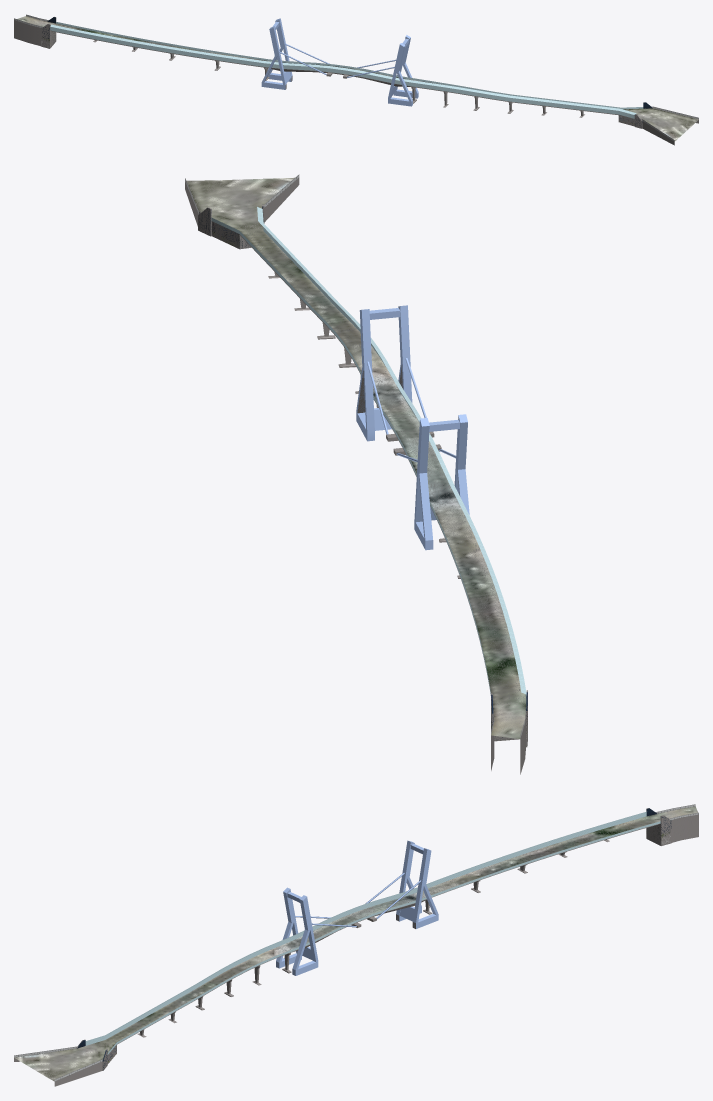
File: ponte_leca.gltf
The picture shows the model from 3 angles, top to bottom: view 1: azimuth 30°, elevation 25°; view 2: azimuth 150°, elevation 25°; view 3: azimuth 270°, elevation 25°; orthographic projection. The views are drawn at different scales.
Parts seen in each view (by area): view 1: SketchUp.051, SketchUp.055, SketchUp, SketchUp.006, SketchUp.038, SketchUp.011, SketchUp.018, SketchUp.003, SketchUp.009, SketchUp.019; view 2: SketchUp.038, SketchUp, SketchUp.004, SketchUp.051, SketchUp.009, SketchUp.019, SketchUp.055, SketchUp.001, SketchUp.011, SketchUp.018; view 3: SketchUp.038, SketchUp.051, SketchUp, SketchUp.055, SketchUp.004, SketchUp.019, SketchUp.006, SketchUp.009, SketchUp.002, SketchUp.018, SketchUp.011.
Boxes of the visible parts, x1=… form: SketchUp.051: x1=50, y1=24, x2=636, y2=118; SketchUp.055: x1=56, y1=22, x2=643, y2=109; SketchUp: x1=623, y1=108, x2=698, y2=141; SketchUp.006: x1=50, y1=30, x2=618, y2=115; SketchUp.038: x1=55, y1=23, x2=416, y2=80; SketchUp.011: x1=261, y1=26, x2=286, y2=89; SketchUp.018: x1=388, y1=43, x2=412, y2=106; SketchUp.003: x1=14, y1=20, x2=41, y2=46; SketchUp.009: x1=267, y1=18, x2=292, y2=81; SketchUp.019: x1=393, y1=35, x2=418, y2=98; SketchUp.038: x1=373, y1=369, x2=526, y2=704; SketchUp: x1=186, y1=177, x2=294, y2=233; SketchUp.004: x1=243, y1=231, x2=361, y2=357; SketchUp.051: x1=257, y1=207, x2=526, y2=698; SketchUp.009: x1=414, y1=418, x2=433, y2=550; SketchUp.019: x1=356, y1=309, x2=374, y2=441; SketchUp.055: x1=211, y1=218, x2=490, y2=694; SketchUp.001: x1=491, y1=702, x2=526, y2=738; SketchUp.011: x1=454, y1=414, x2=469, y2=514; SketchUp.018: x1=398, y1=305, x2=412, y2=402; SketchUp.038: x1=267, y1=816, x2=657, y2=951; SketchUp.051: x1=85, y1=811, x2=646, y2=1045; SketchUp: x1=14, y1=1040, x2=114, y2=1081; SketchUp.055: x1=107, y1=821, x2=660, y2=1054; SketchUp.004: x1=106, y1=964, x2=256, y2=1043; SketchUp.019: x1=292, y1=895, x2=318, y2=975; SketchUp.006: x1=117, y1=823, x2=660, y2=1044; SketchUp.009: x1=412, y1=848, x2=438, y2=928; SketchUp.002: x1=671, y1=815, x2=698, y2=842; SketchUp.018: x1=276, y1=887, x2=301, y2=968; SketchUp.011: x1=396, y1=840, x2=421, y2=921.
Size of the model in its own units: 362 by 49.31 by 407.
38 materials, 34 textured.
